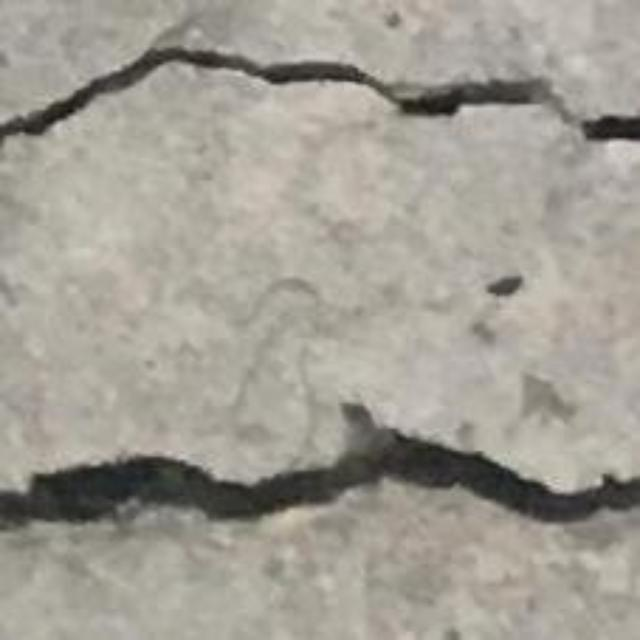crack: (0, 404, 639, 527)
